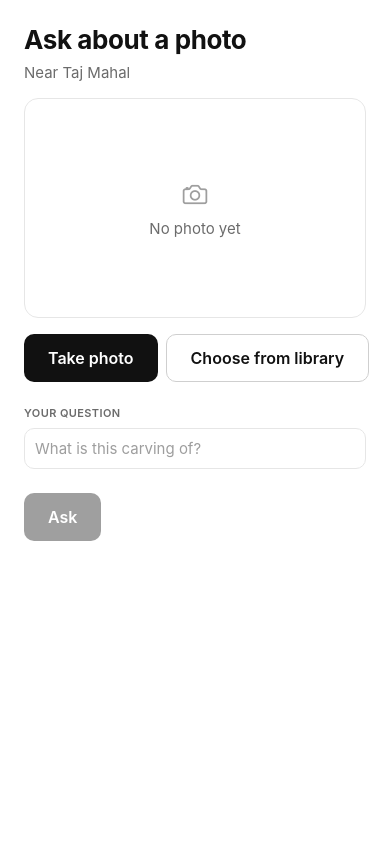
PhotoQAScreen › captures a photo and asks a real grounded question
Click the button with test id "capture-photo-button".
click(91, 358)  # box [24,334,158,382]
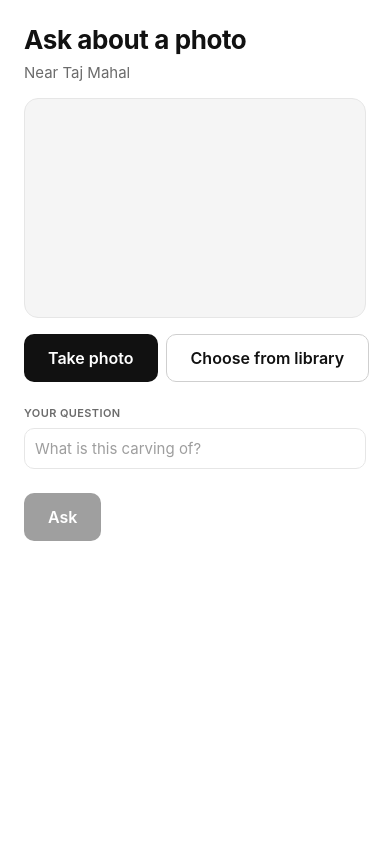
Check: the element with test id "photo-preview" is shown, box [24,98,366,318]
Type "What is this dome?" into the field with test id "photo-question-input".
click(195, 448); type("What is this dome?")  # box [24,428,366,469]
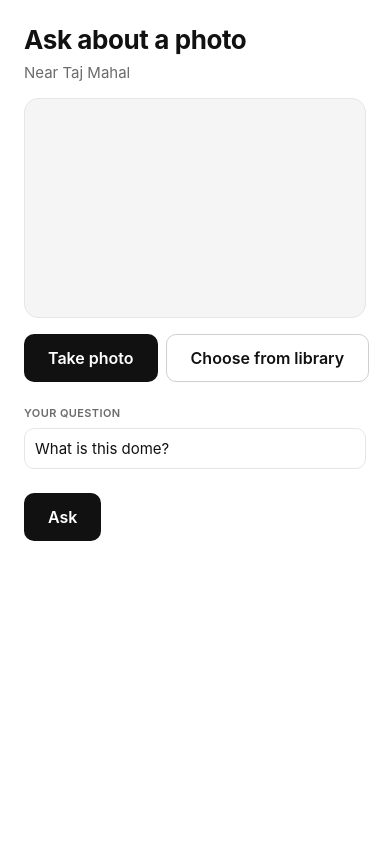
Click the button with test id "ask-photo-question-button".
click(63, 517)  # box [24,493,101,541]
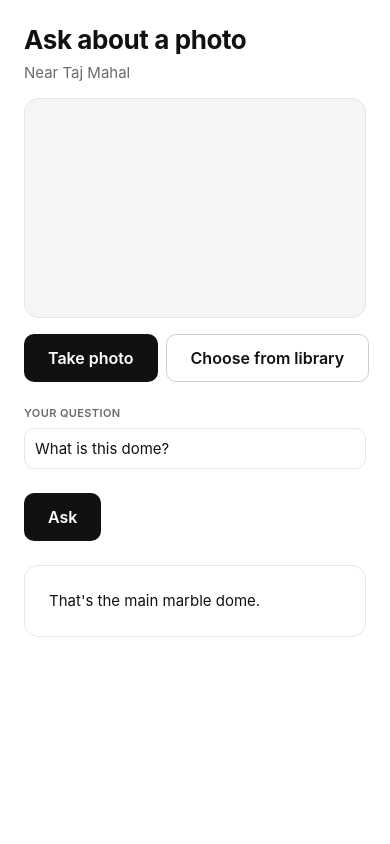
Check: the element with test id "photo-qa-result" is shown, box [24,565,366,637]
Check: the text "That's the main marble dome." is shown, box [49,591,260,610]
